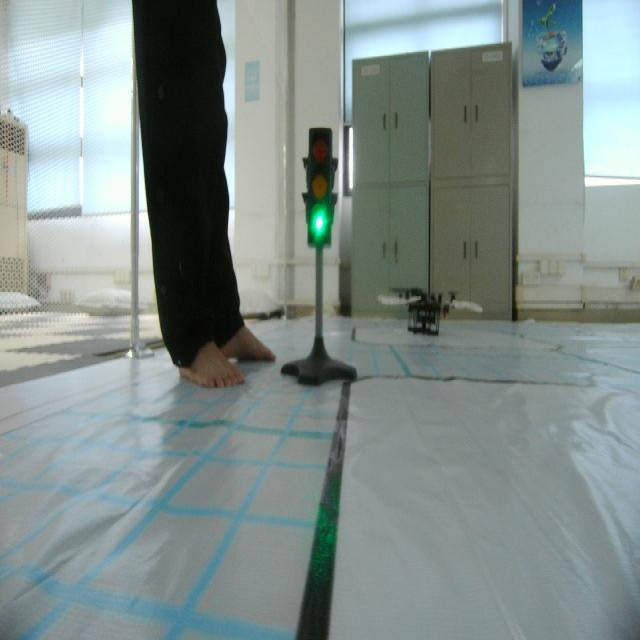green: (300, 122, 336, 254)
